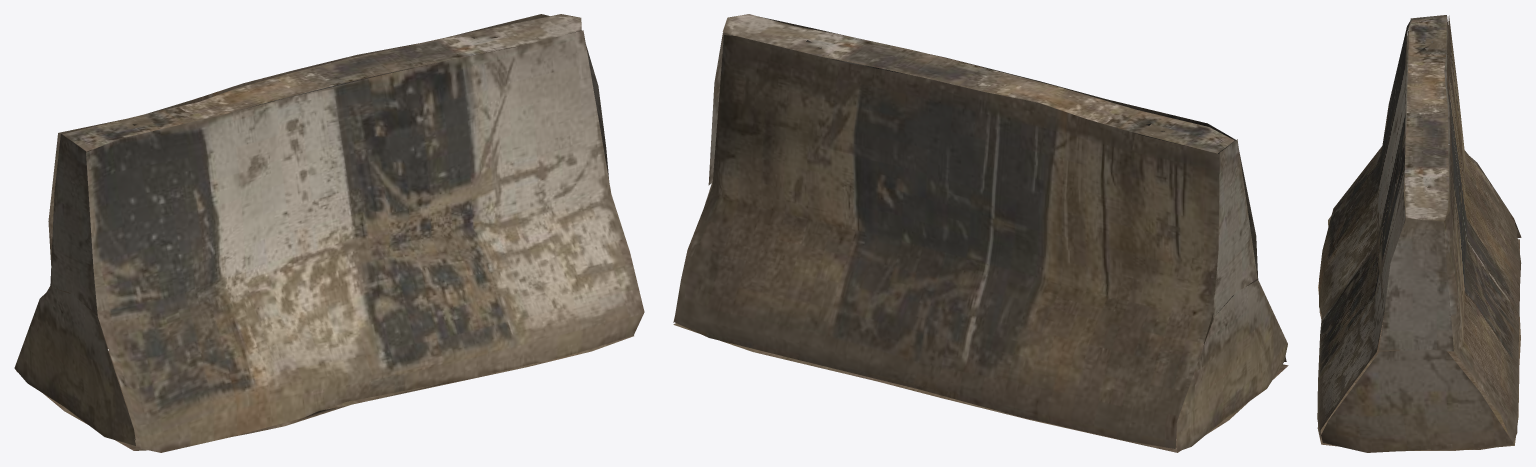
File: concrete_road_barrier.glb
3 views of the same model, side by side, from view 1: azimuth 30°, elevation 25°; view 2: azimuth 150°, elevation 25°; view 3: azimuth 270°, elevation 25° (orthographic). The views are drawn at different scales.
Parts seen in each view (by area): view 1: concrete_road_barrier; view 2: concrete_road_barrier; view 3: concrete_road_barrier.
Boxes of the visible parts, x1=… form: concrete_road_barrier: x1=14, y1=14, x2=644, y2=452; concrete_road_barrier: x1=673, y1=14, x2=1288, y2=452; concrete_road_barrier: x1=1317, y1=15, x2=1521, y2=452.
Bounding box in the file's own units: 1.55 × 0.8109 × 0.6335.
Materials: 1 (1 with a texture image).
